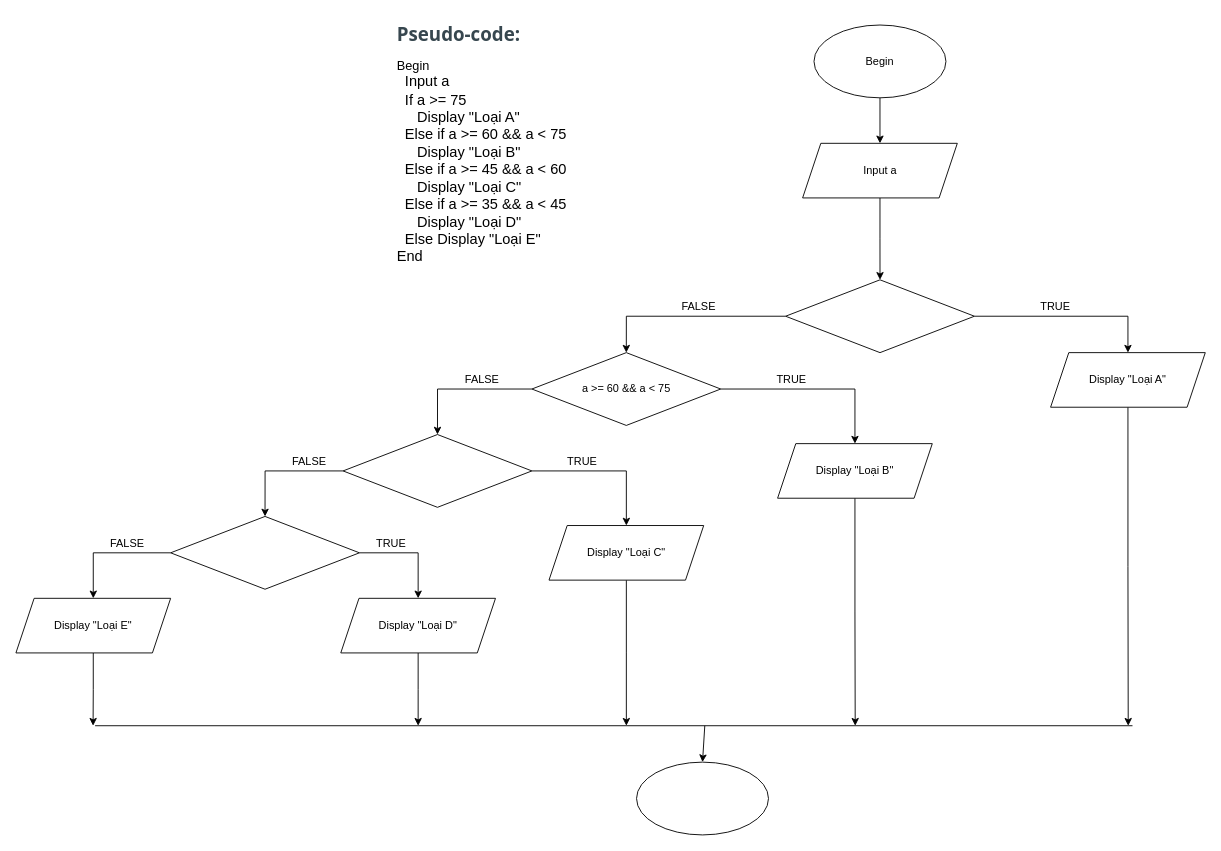
Image size: 1221x851. Some labels were removed from this diagram. The centre of each missing label's shape, as x and y in pixels:
a >= 35 && a < 45: point (264, 552)
a >= 45 && a < 60: point (437, 470)
a >= 75: point (879, 316)
End: point (702, 798)
